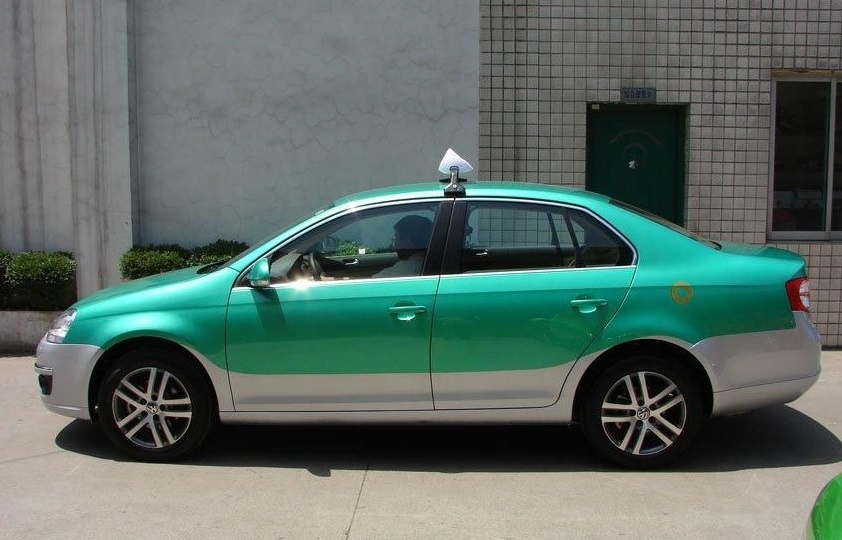taxi: (39, 166, 825, 456)
